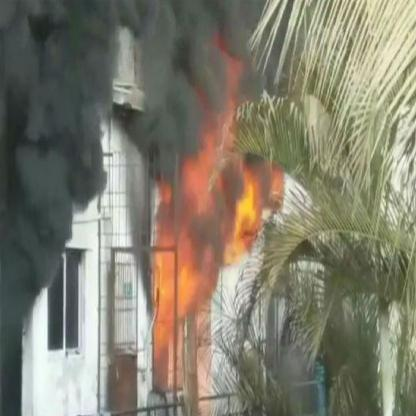fire: (143, 110, 287, 390)
